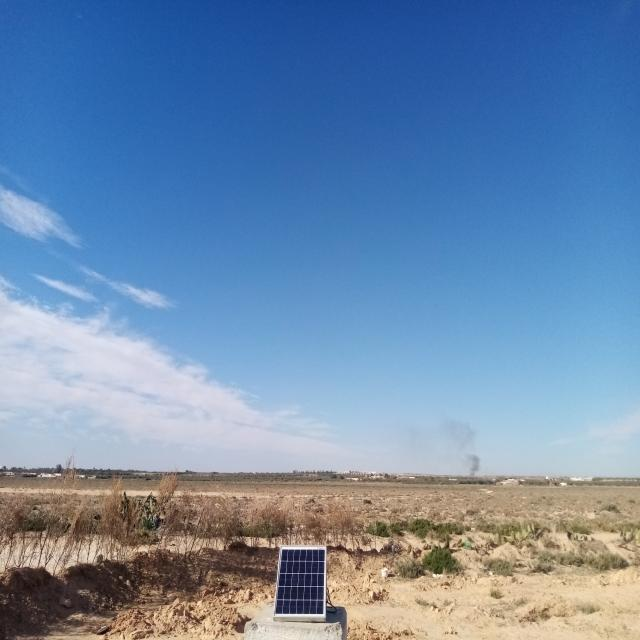no faulty: (274, 546, 327, 617)
